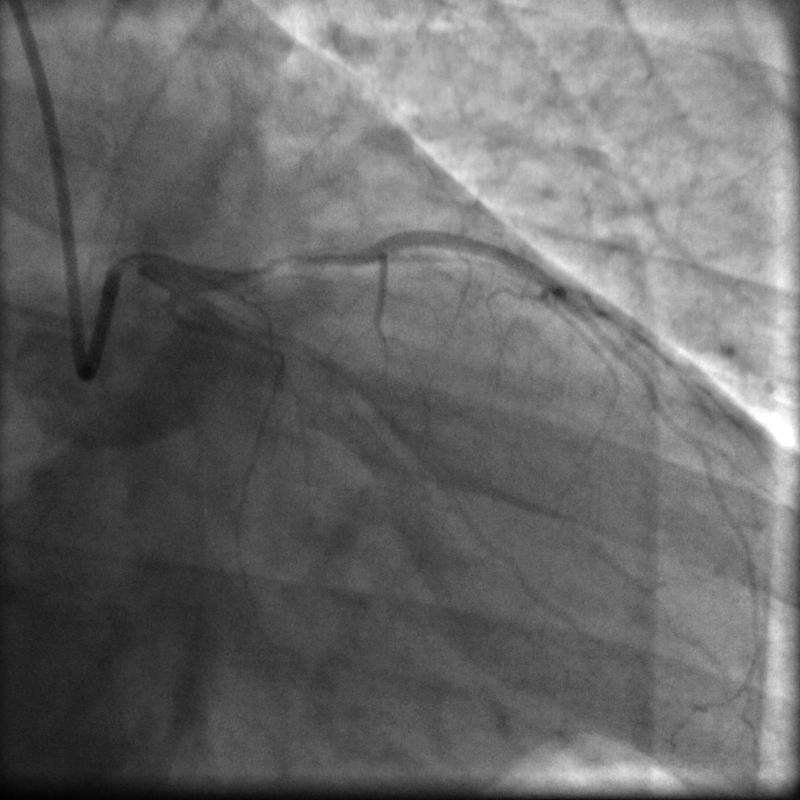Stenosis: (231, 250, 330, 277)
